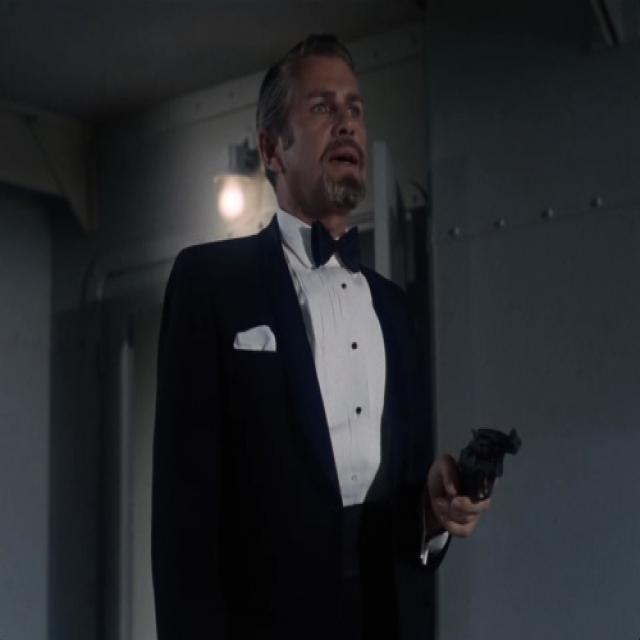weapons: (426, 406, 530, 534)
